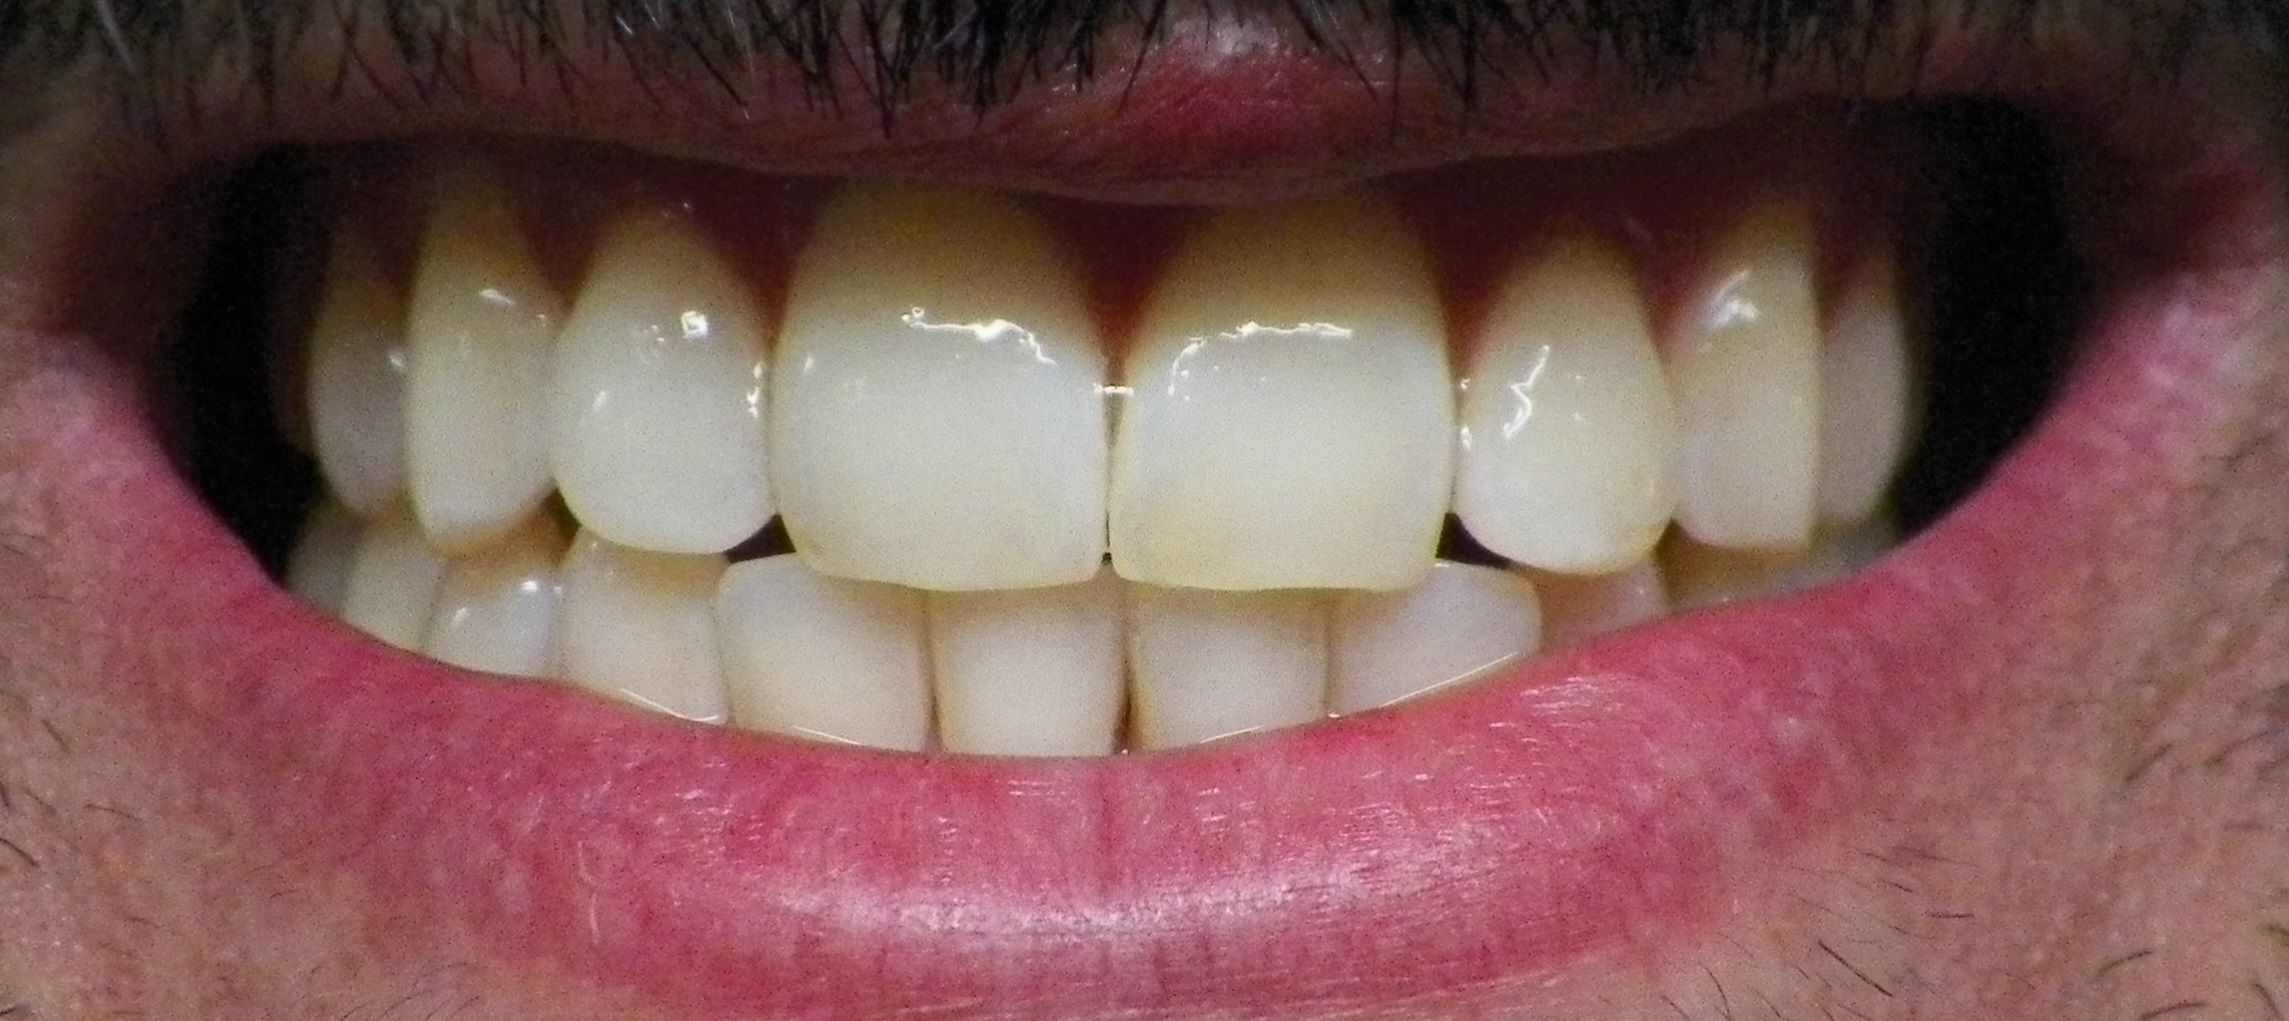boca: (220, 139, 1928, 760)
